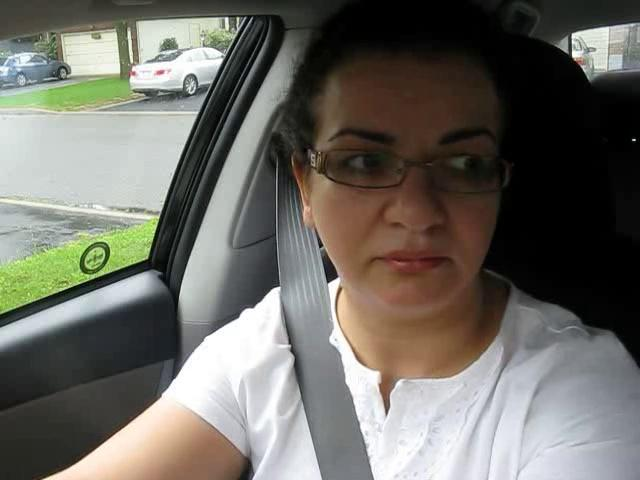no_yawn: (351, 232, 465, 288)
open_eyeL: (317, 137, 411, 192)
open_eyeR: (425, 144, 504, 195)
